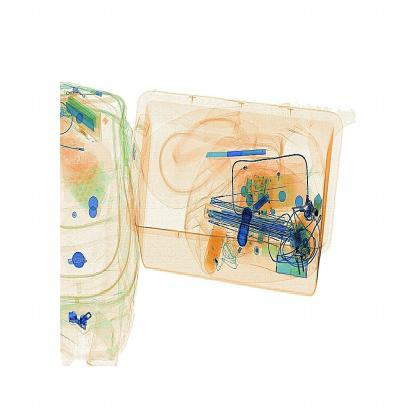pliers: (202, 145, 253, 162)
